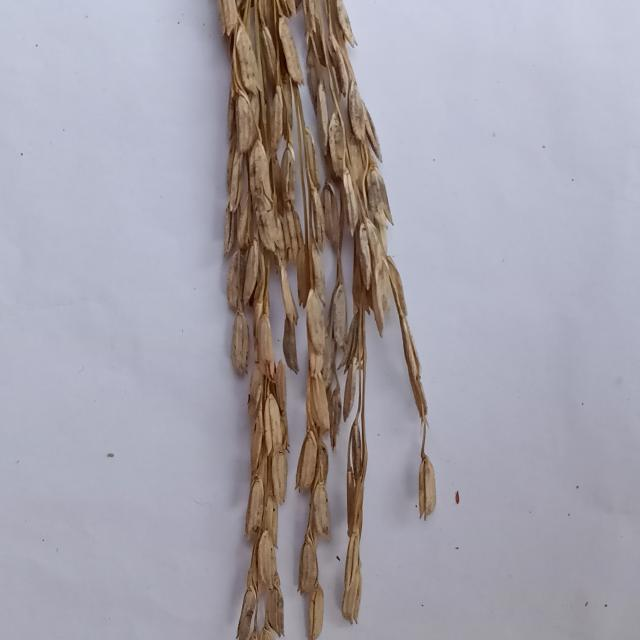Neck_Blast: (224, 0, 435, 640)
